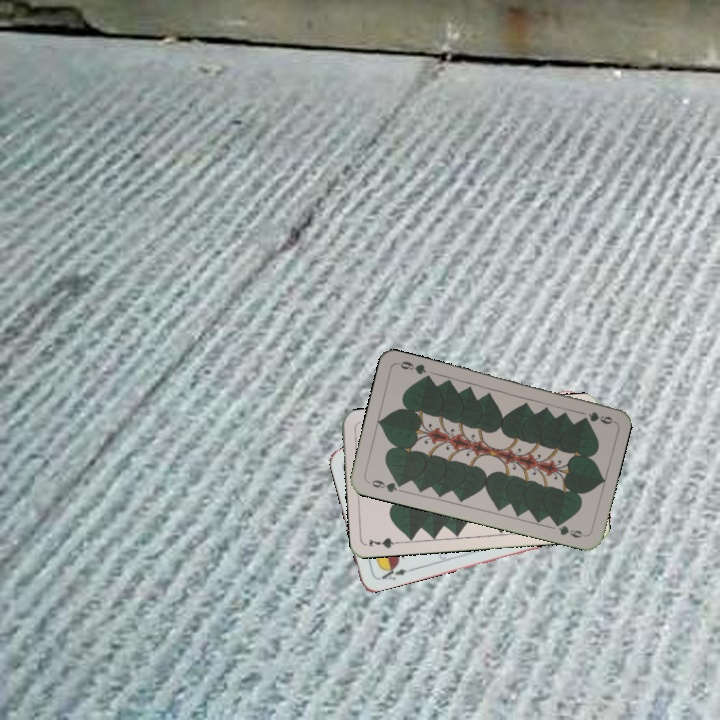EA: (374, 561, 414, 583)
G7: (365, 534, 405, 551)
G9: (364, 476, 405, 495), (584, 408, 615, 427)
